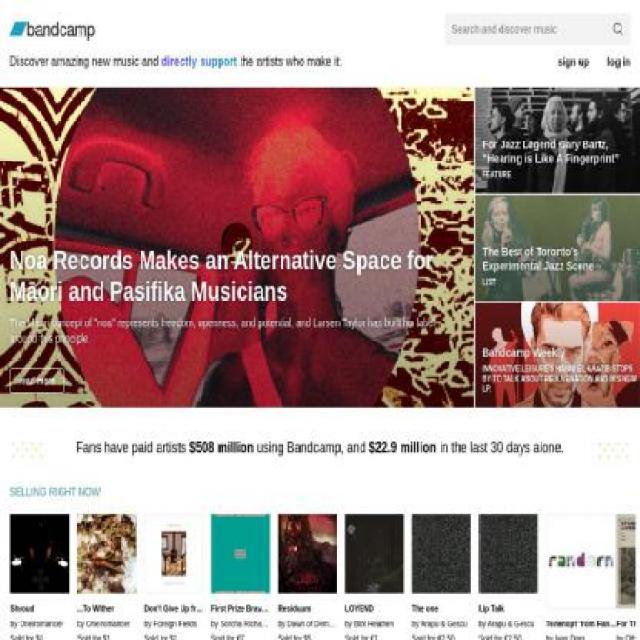button: (0, 246, 640, 408), (475, 87, 639, 195), (475, 194, 639, 301), (475, 302, 639, 409), (88, 515, 161, 639), (245, 515, 318, 639), (402, 515, 475, 639), (10, 515, 82, 639), (167, 515, 239, 639), (324, 515, 396, 639), (481, 515, 553, 639), (560, 515, 632, 639), (638, 515, 640, 639), (612, 22, 623, 36)
field: (444, 13, 630, 45)
